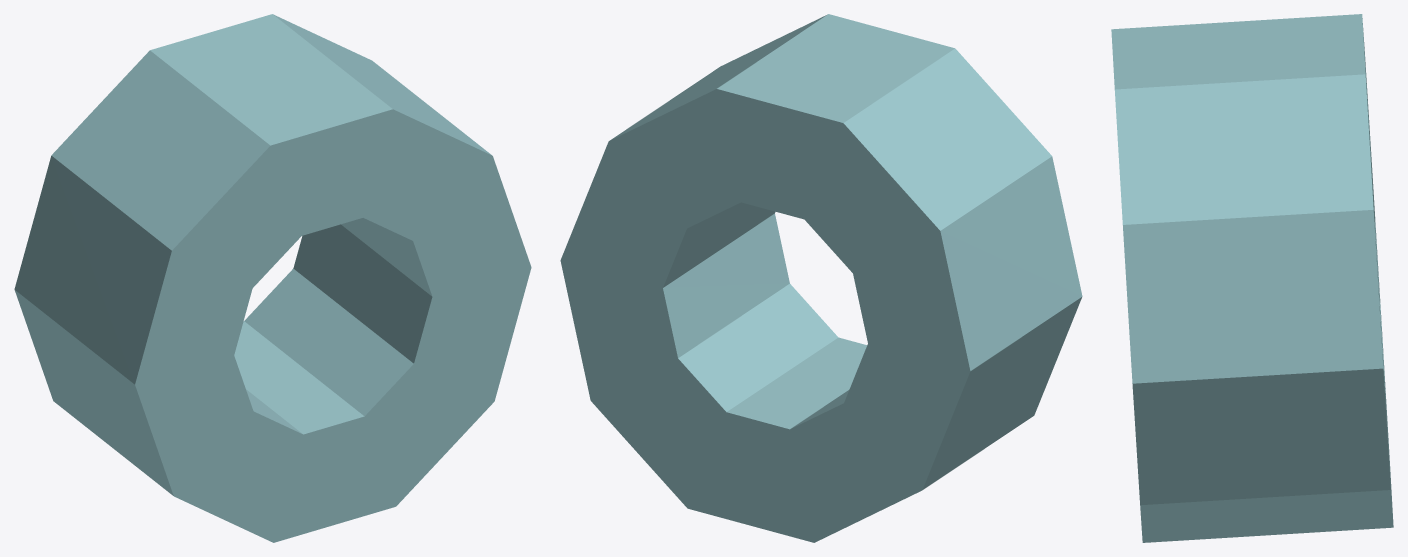
File: wheel2.glb
3 views of the same model, side by side, from view 1: azimuth 30°, elevation 25°; view 2: azimuth 150°, elevation 25°; view 3: azimuth 270°, elevation 25° (orthographic). The views are drawn at different scales.
Parts seen in each view (by area): view 1: Mesh_Mesh_head_geo.001_lambert2SG.001; view 2: Mesh_Mesh_head_geo.001_lambert2SG.001; view 3: Mesh_Mesh_head_geo.001_lambert2SG.001.
Part boxes in pixels (bbox=[...]): Mesh_Mesh_head_geo.001_lambert2SG.001: bbox=[14, 14, 531, 542]; Mesh_Mesh_head_geo.001_lambert2SG.001: bbox=[560, 14, 1082, 542]; Mesh_Mesh_head_geo.001_lambert2SG.001: bbox=[1111, 14, 1393, 542].
Bounding box in the file's own units: 0.00404 × 0.00406 × 0.00225.
